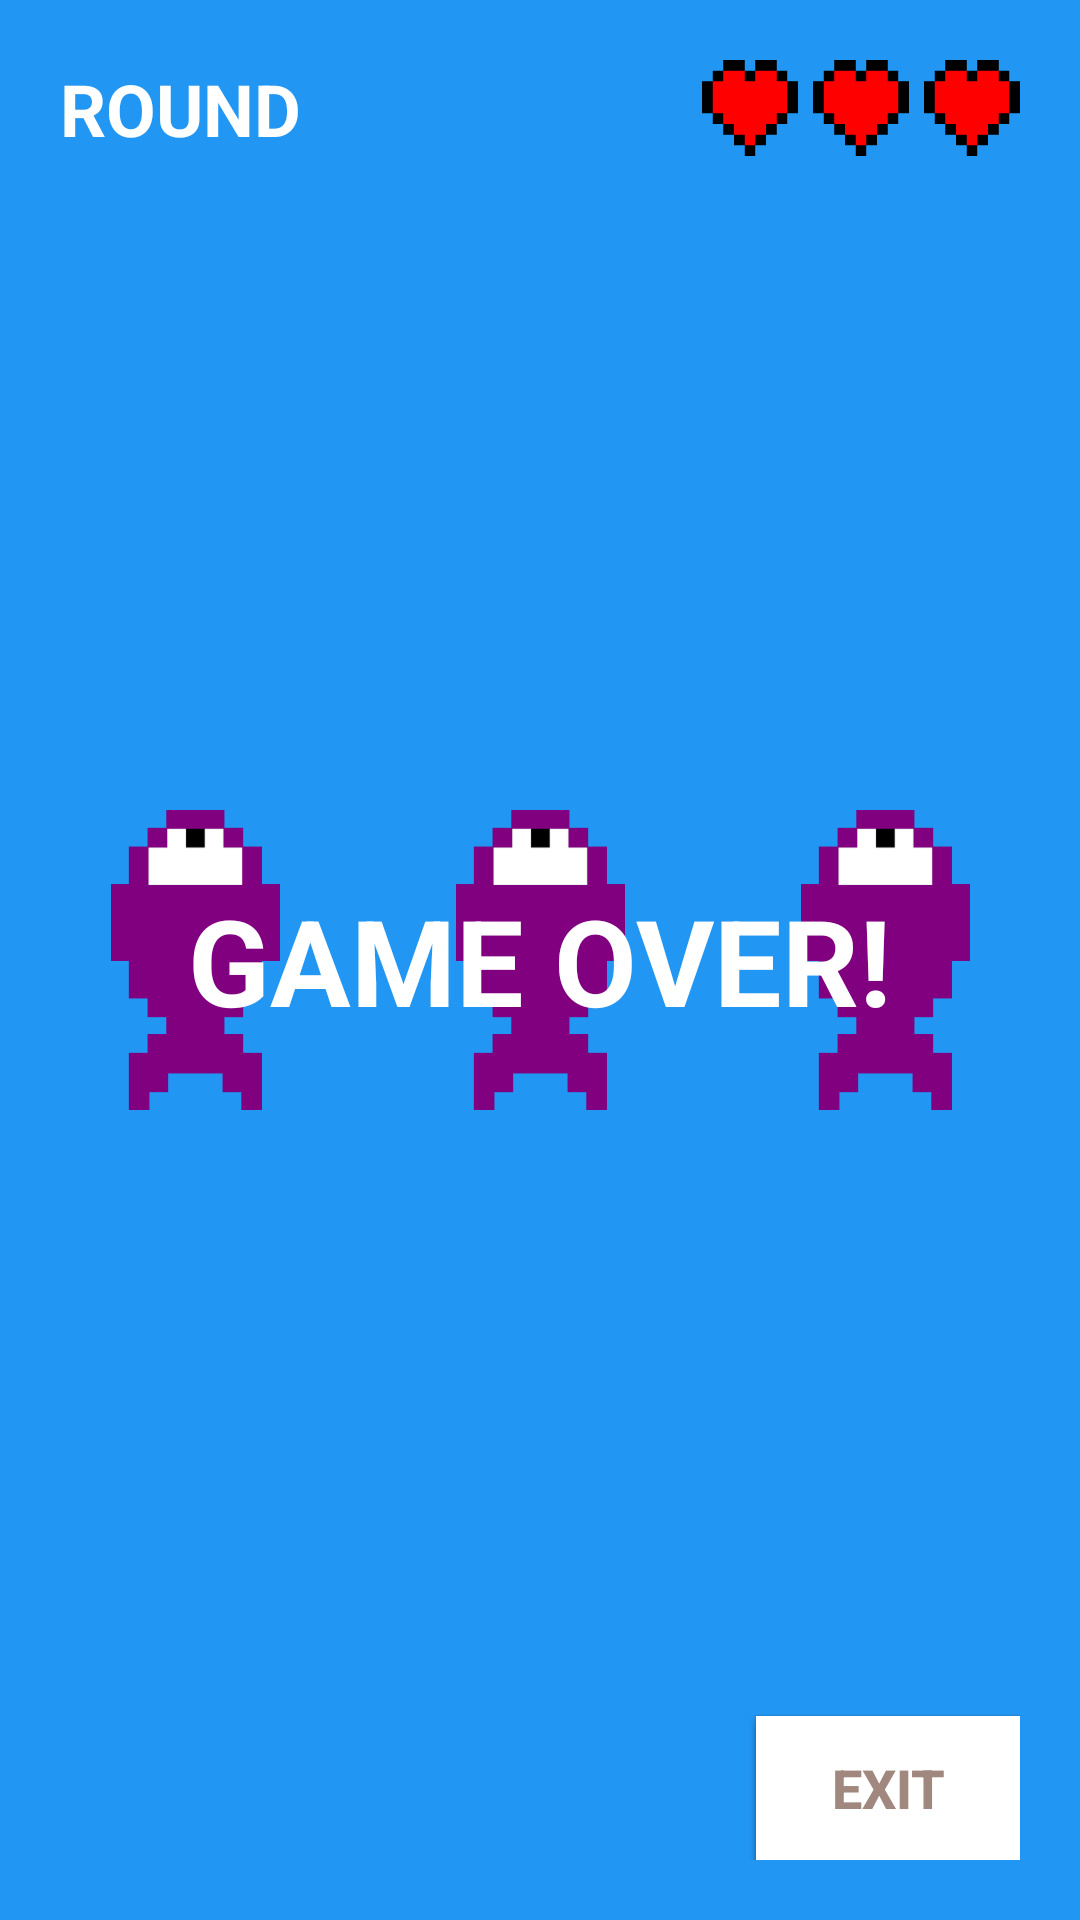

Named icons in this screenshot (1080px×1920px) and their centers, [x,y]:
heart: [750,108], [861,108], [972,108]
